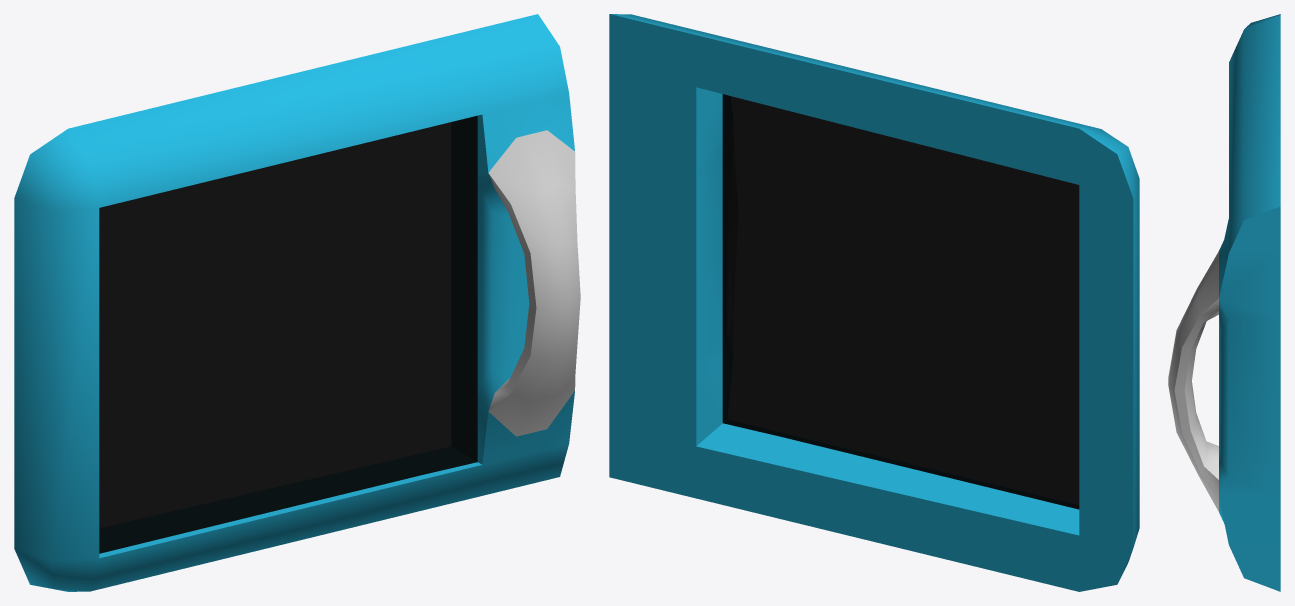
The model's file is Microwave_Door 1.fbx.
The picture shows the model from 3 angles, left to right: view 1: azimuth 30°, elevation 25°; view 2: azimuth 150°, elevation 25°; view 3: azimuth 270°, elevation 25°; orthographic projection. The views are drawn at different scales.
Visible parts, largest first — view 1: MicrowaveDoor; view 2: MicrowaveDoor; view 3: MicrowaveDoor.
Part boxes in pixels (bbox=[...]): MicrowaveDoor: bbox=[14, 14, 580, 591]; MicrowaveDoor: bbox=[609, 14, 1139, 591]; MicrowaveDoor: bbox=[1168, 14, 1280, 591].
Bounding box in the file's own units: 79.28 × 67.02 × 17.72.
